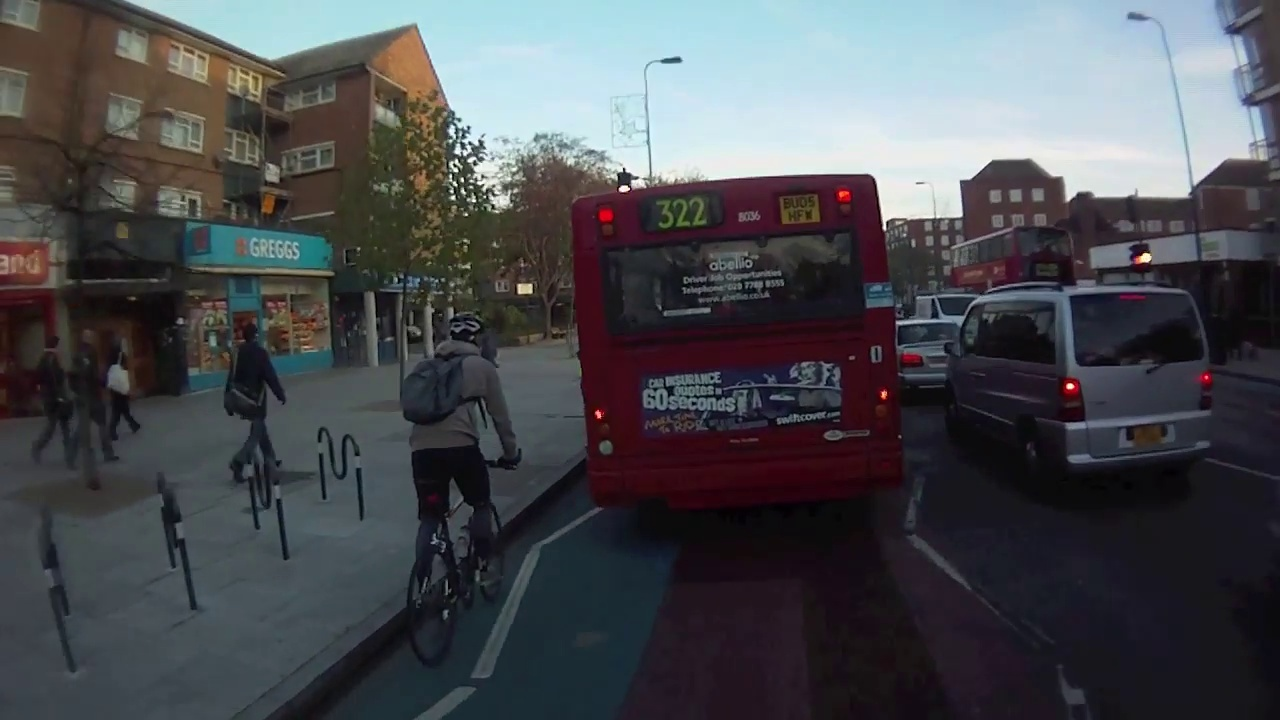cyclist_back: (397, 310, 519, 675)
